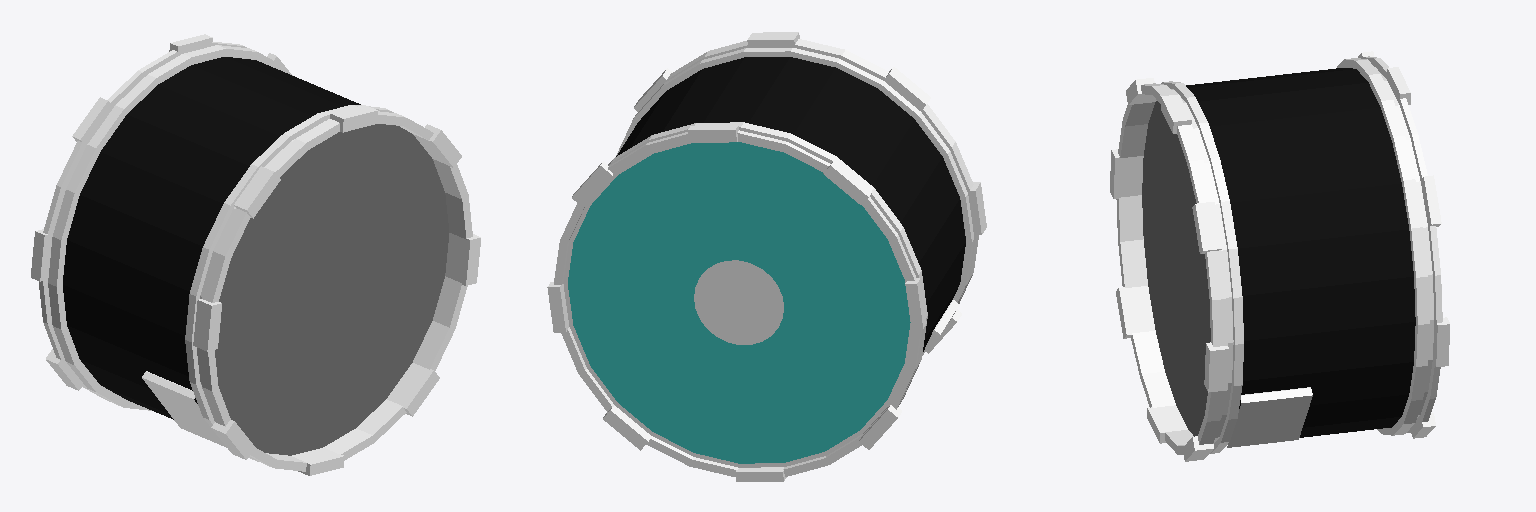
File: Kick1.obj
3 views of the same model, side by side, from view 1: azimuth 30°, elevation 25°; view 2: azimuth 150°, elevation 25°; view 3: azimuth 270°, elevation 25° (orthographic).
Parts seen in each view (by area): view 1: ComponentFBXASC0352_003; view 2: ComponentFBXASC0352_003; view 3: ComponentFBXASC0352_003.
Part boxes in pixels (bbox=[...]): ComponentFBXASC0352_003: bbox=[31, 34, 480, 475]; ComponentFBXASC0352_003: bbox=[547, 32, 986, 481]; ComponentFBXASC0352_003: bbox=[1110, 51, 1449, 461].
Size of the model in its own units: 474 by 419 by 367.